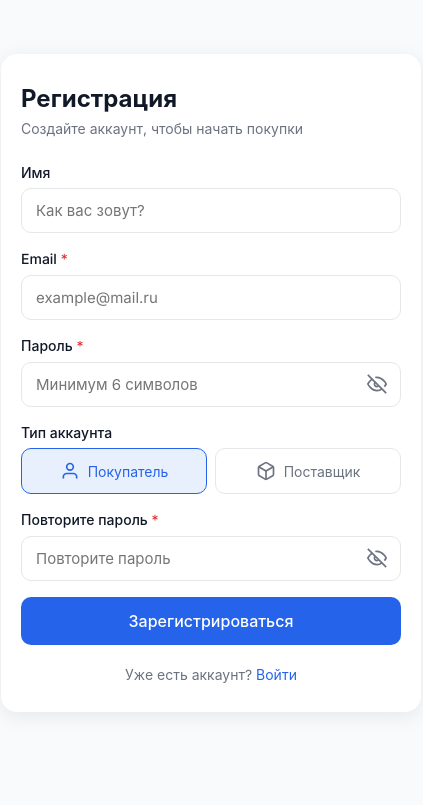
Test: Register.vue › отправляет запрос на /register/ и показывает сообщение об успехе
The image size is (423, 805).
Type "test@example.com" into the field with test id "register-email". click: (211,298)
box: [21,275,401,320]
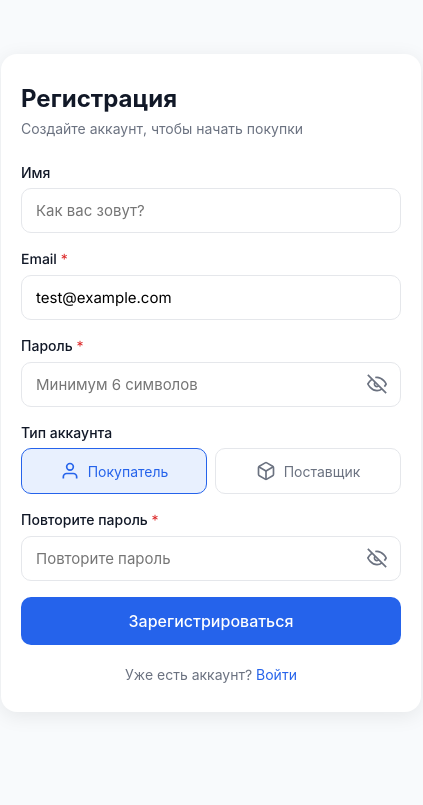
Type "password123" into the password field with test id "register-password". click: (211,384)
box: [21,362,401,407]
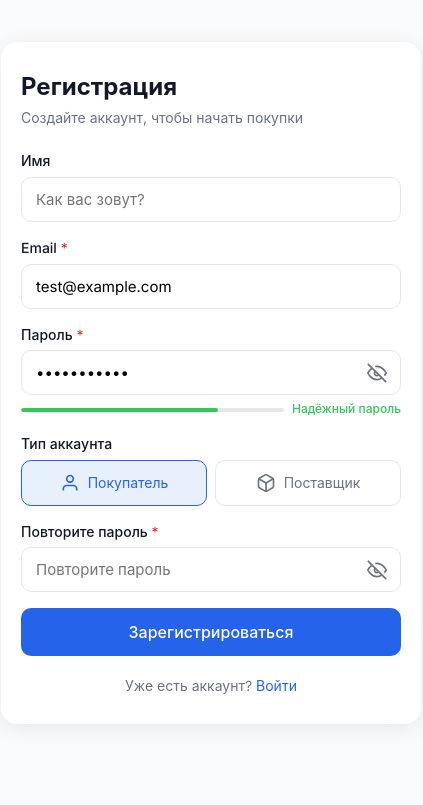
Type "password123" into the password field with test id "register-password-confirm". click: (211,570)
box: [21,547,401,592]
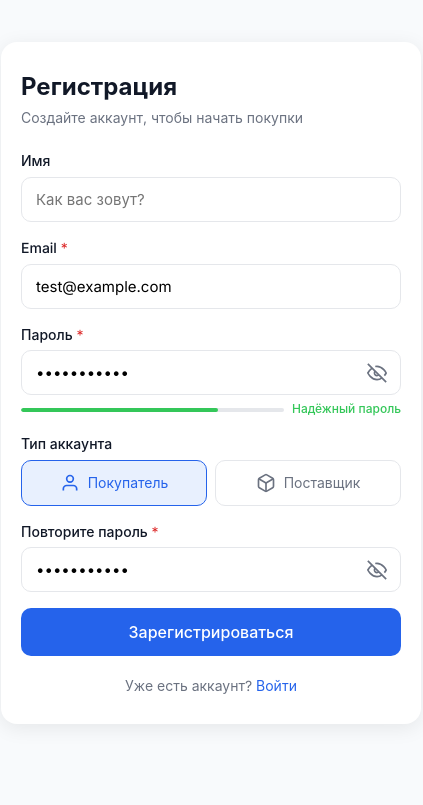
Submit the form with test id "register-form", box [21,151,401,656]
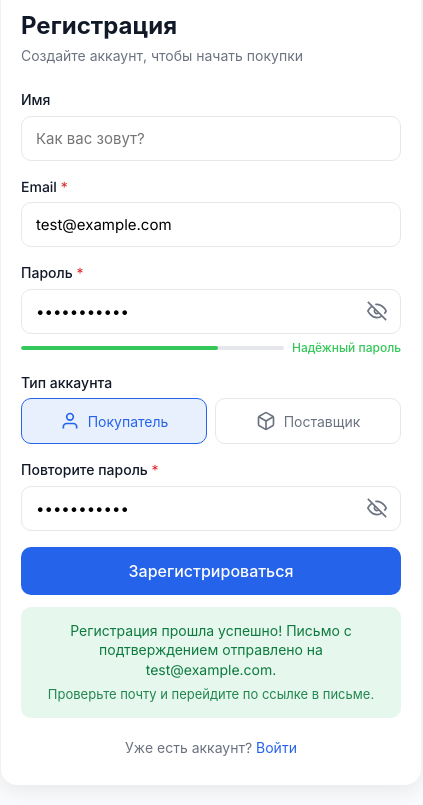
Now the element with test id "register-success" is shown, box [21,607,401,718]
Now the text "test@example.com" is shown, box [146,661,272,678]
